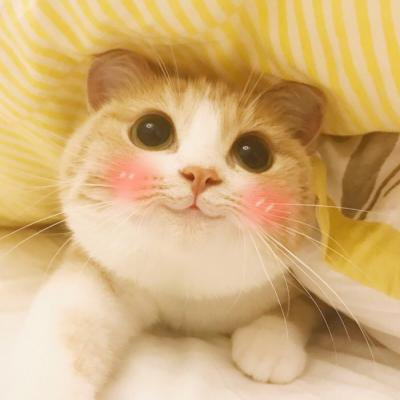cat: (72, 36, 336, 314)
